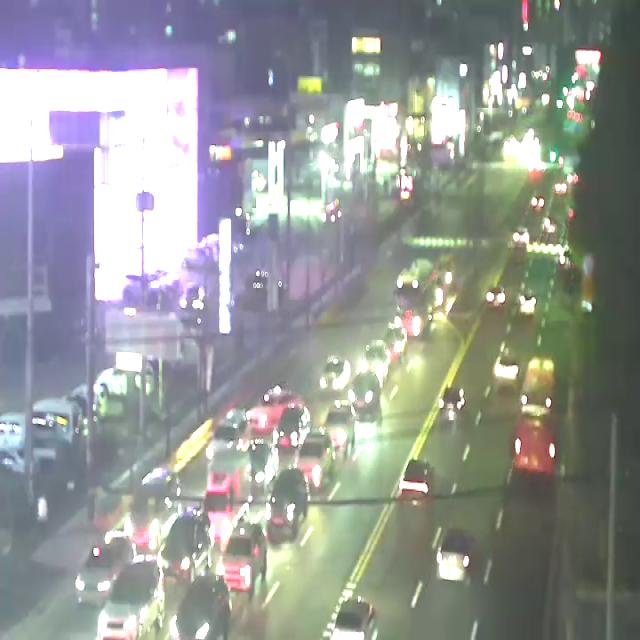Bus: (515, 359, 557, 477), (397, 258, 436, 338)
Car: (98, 561, 165, 640), (75, 530, 133, 608), (124, 468, 177, 548), (157, 507, 211, 584), (204, 453, 250, 540), (170, 575, 230, 640), (216, 523, 266, 597), (266, 468, 308, 535), (247, 386, 306, 430), (293, 427, 335, 487), (207, 410, 250, 461), (330, 596, 378, 640), (437, 527, 472, 585), (322, 400, 357, 456), (243, 438, 278, 491), (273, 402, 310, 448), (400, 458, 435, 502), (348, 372, 380, 413), (360, 340, 390, 381), (320, 354, 350, 394), (439, 387, 466, 426), (384, 322, 407, 363), (494, 356, 519, 389), (436, 253, 456, 288), (486, 286, 506, 312), (518, 287, 536, 315), (514, 226, 530, 252)
